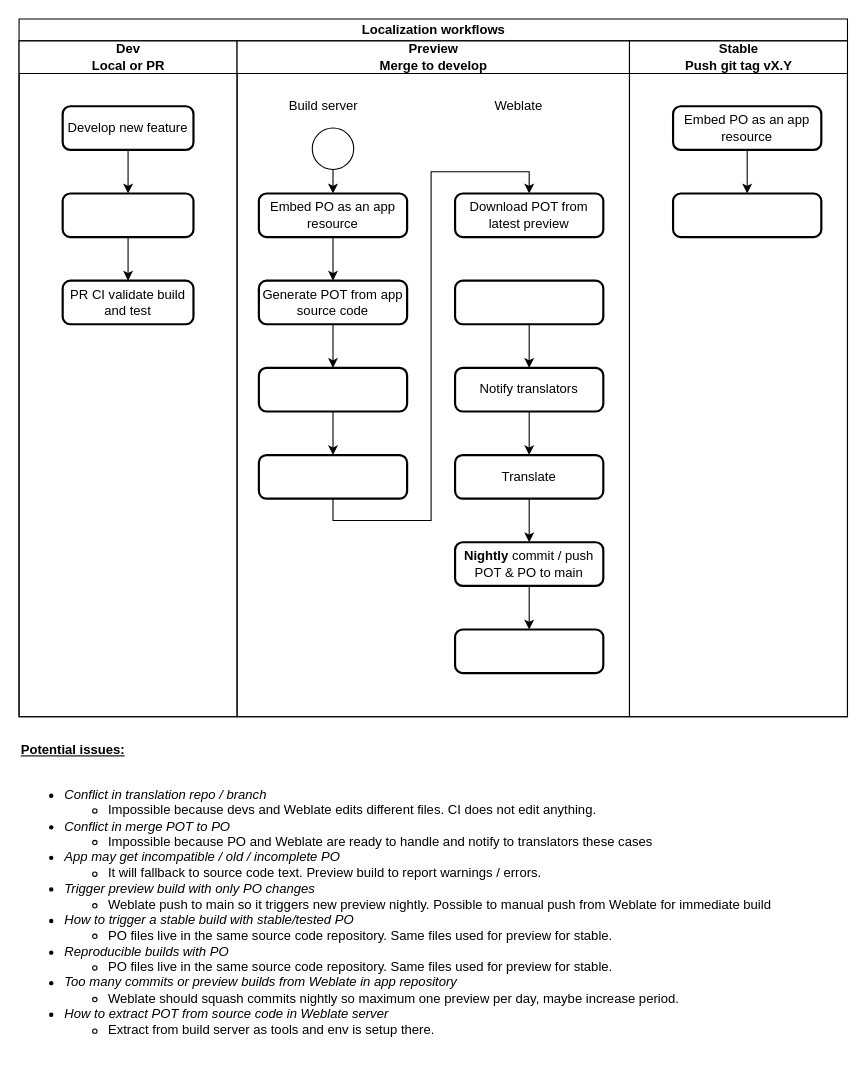
Some shapes in this 867 by 1069 pixel diagram are drawn without their labels. The shapes that lost their labels are listed below. From the top down, each one's centre as x and y in pixels, then its label:
At pixel 127 215: "Create PR".
At pixel 746 215: "Publish app".
At pixel 528 302: "Merge POT -> PO".
At pixel 332 389: "Publish app and POT as preview artifacts".
At pixel 332 476: "Notify Weblate via API".
At pixel 528 651: "Triggers new preview build".
